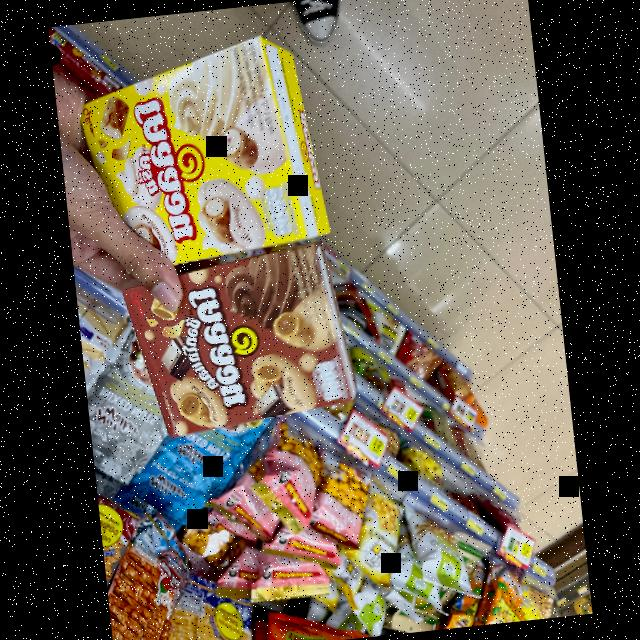cardboard_box: (75, 30, 341, 282), (121, 240, 369, 444)
